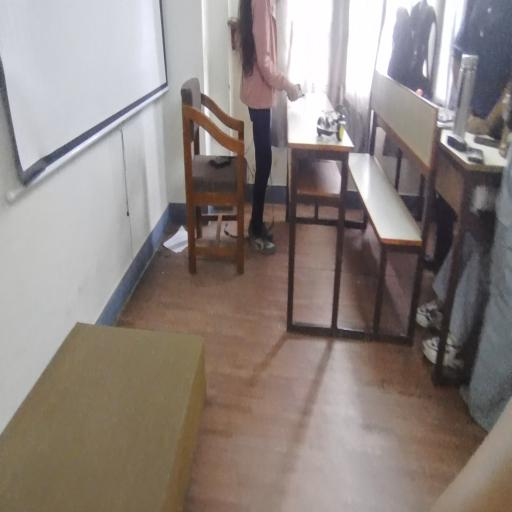car: (315, 107, 360, 151)
